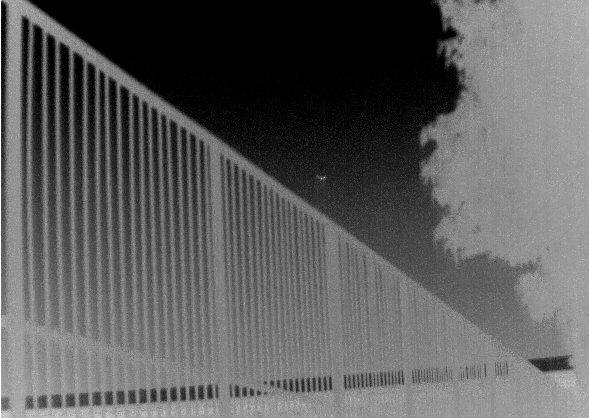dim target: (315, 173, 328, 182)
